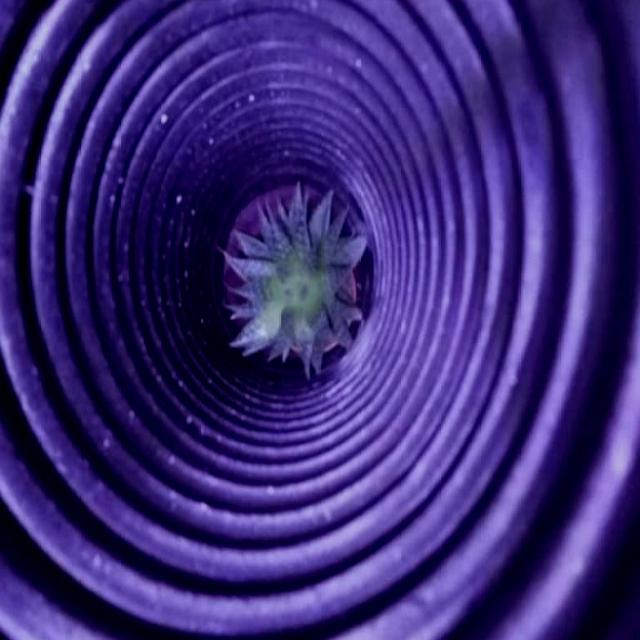leaf: (229, 195, 365, 367)
